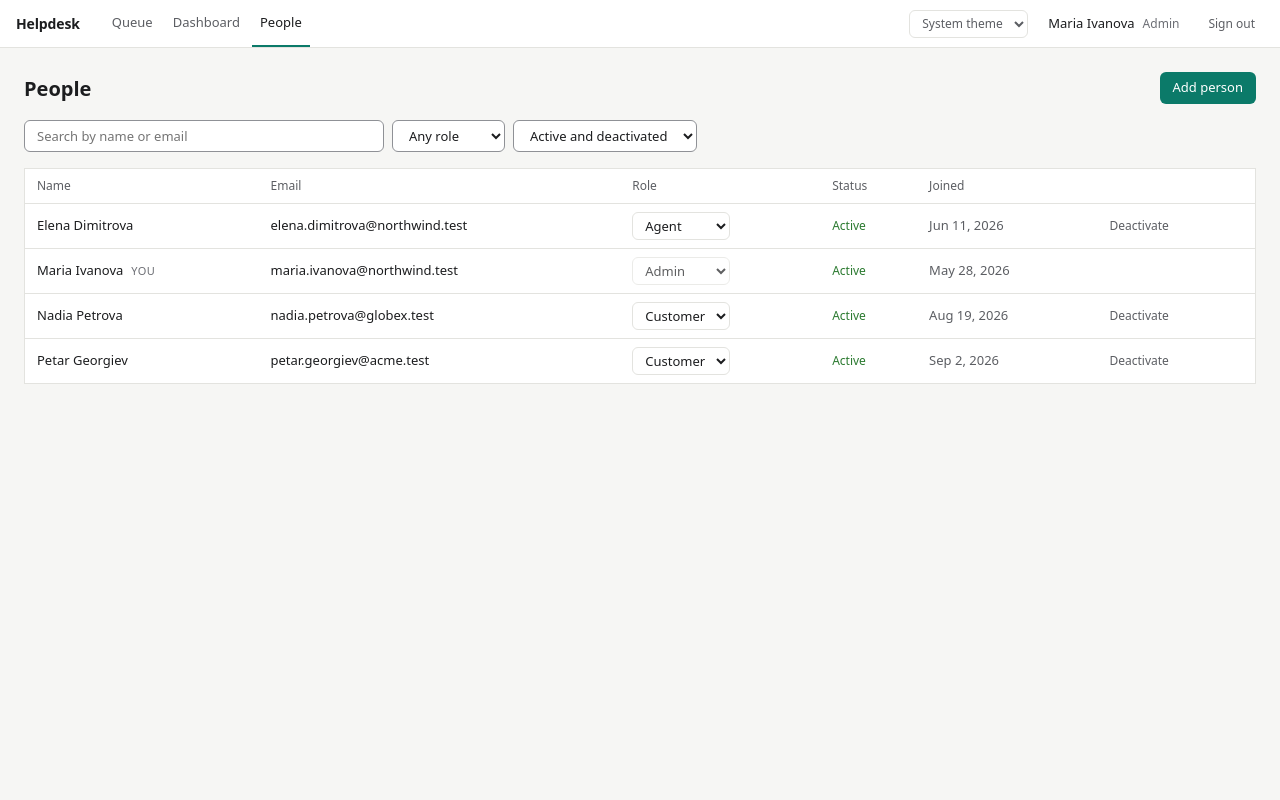
it: the people page › adds an agent who can sign in straight away
The image size is (1280, 800).
Step 1. Click the button "Add person" → (1208, 88), box [1160,72,1256,104]
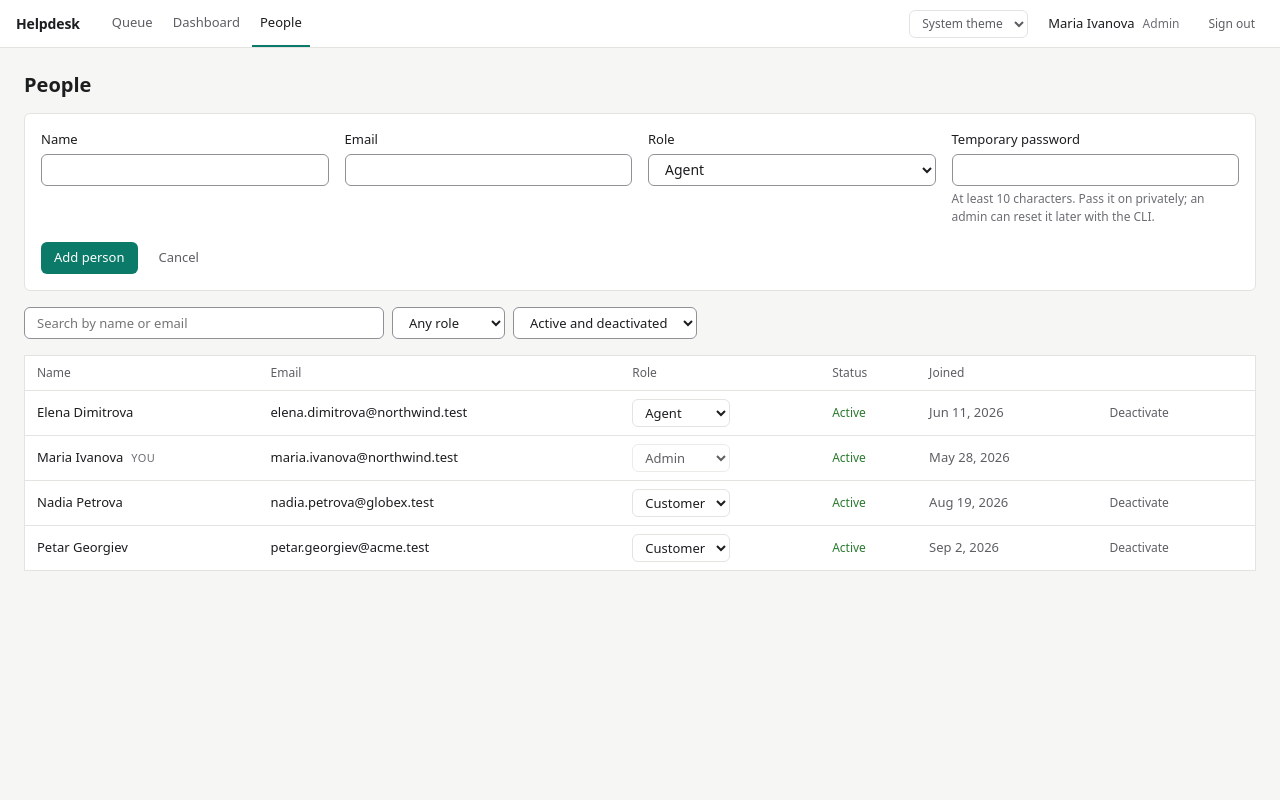
Step 2. Type "Radoslav Petkov" into the field labelled "Name" → (185, 170), box [41,154,328,186]
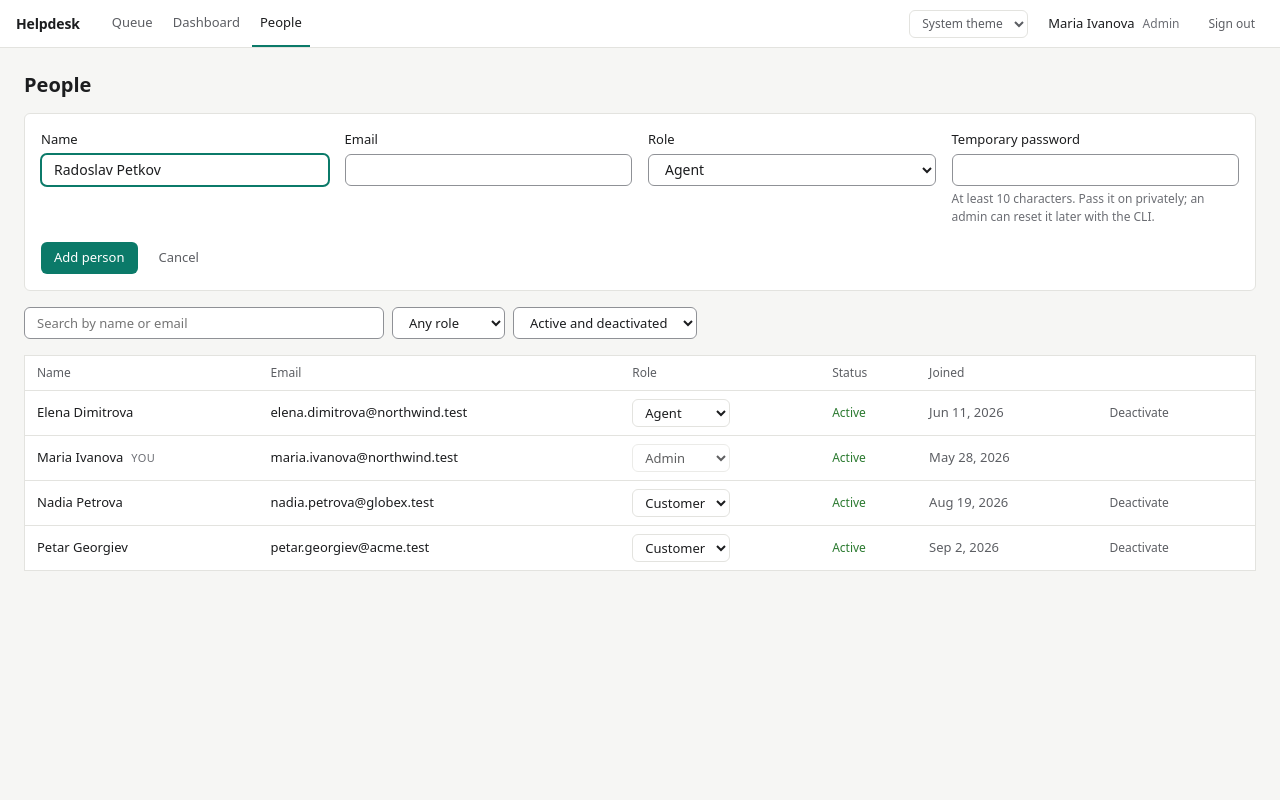
Step 3. Type "radoslav.petkov@northwind.test" into the field labelled "Email" → (488, 170), box [344,154,632,186]
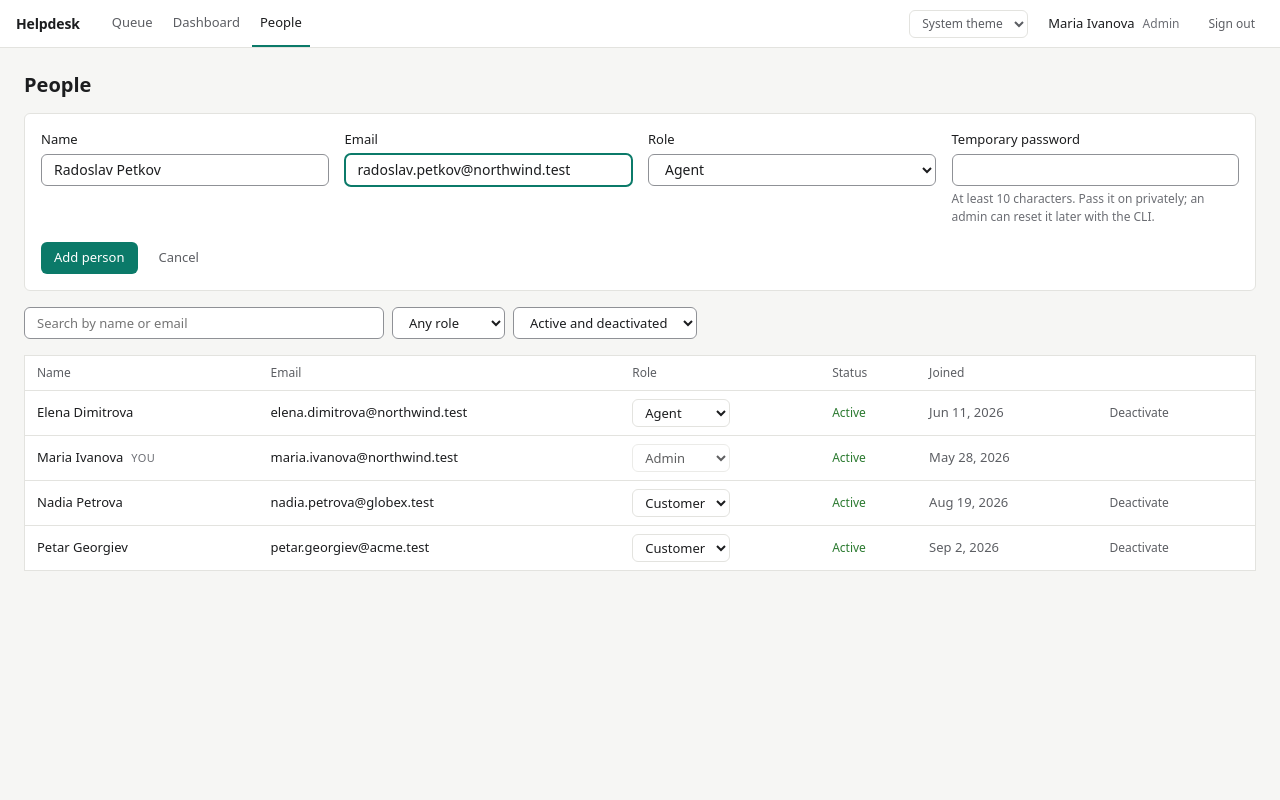
Step 4. Type "first-shift-2026" into the field labelled "Temporary password" → (1095, 170), box [952,154,1239,186]
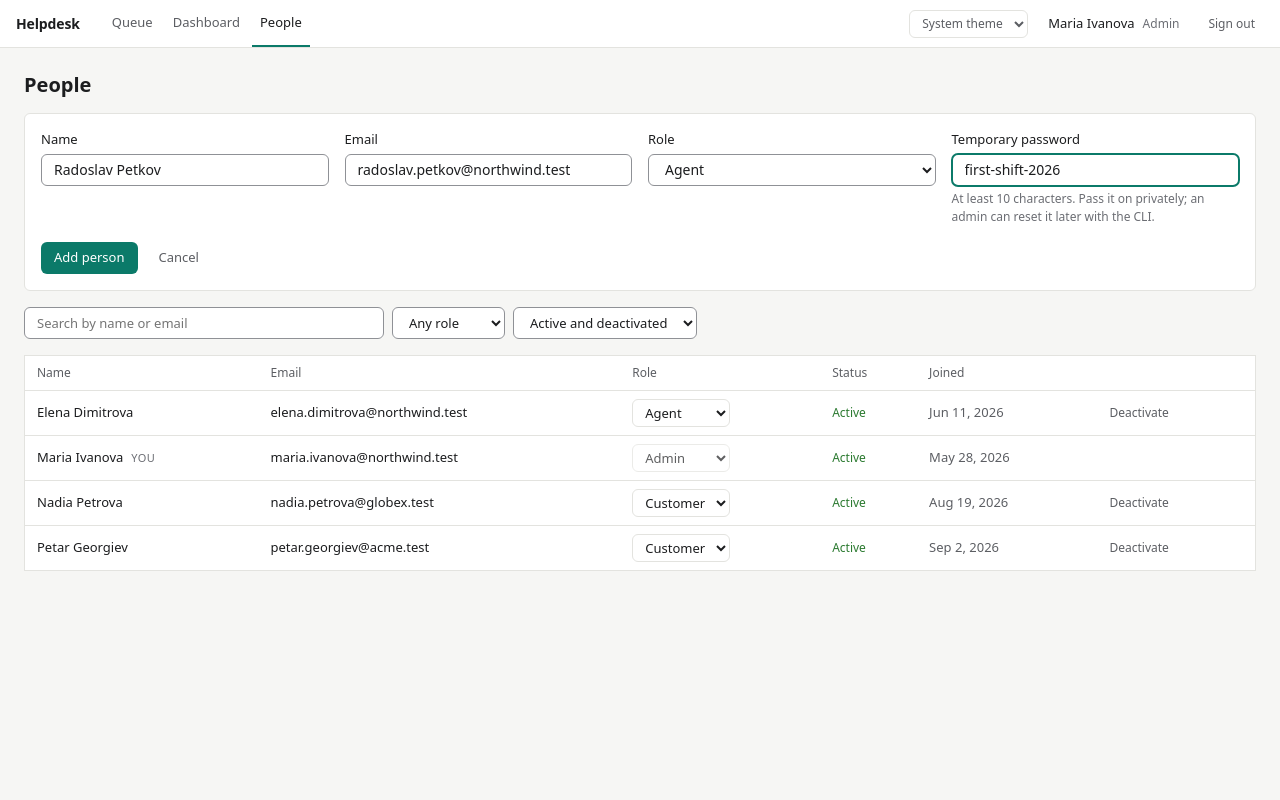
Step 5. Click the button "Add person" → (89, 258), box [41,242,138,274]
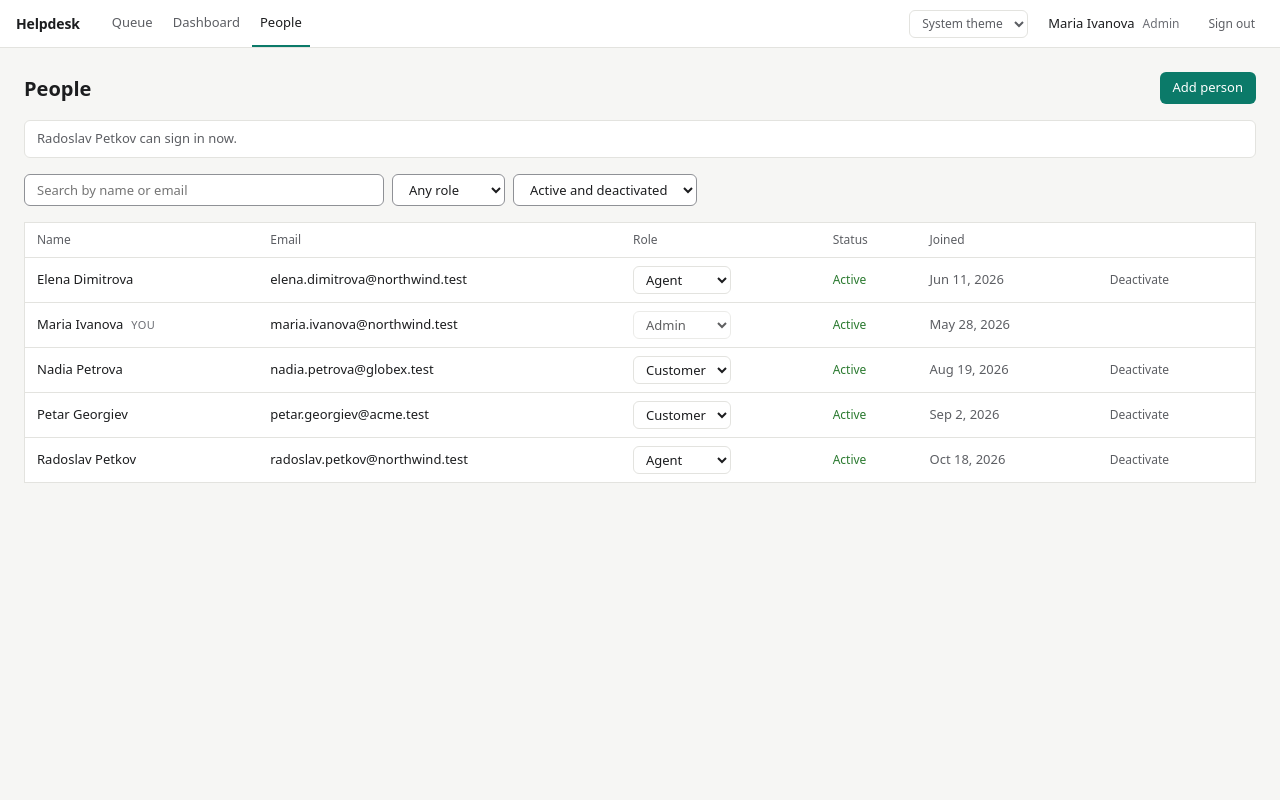
Expected: the text "Radoslav Petkov can sign in now." is shown, [24,120,1256,158]
Expected: the row "Radoslav Petkov" is shown, [24,437,1256,482]
